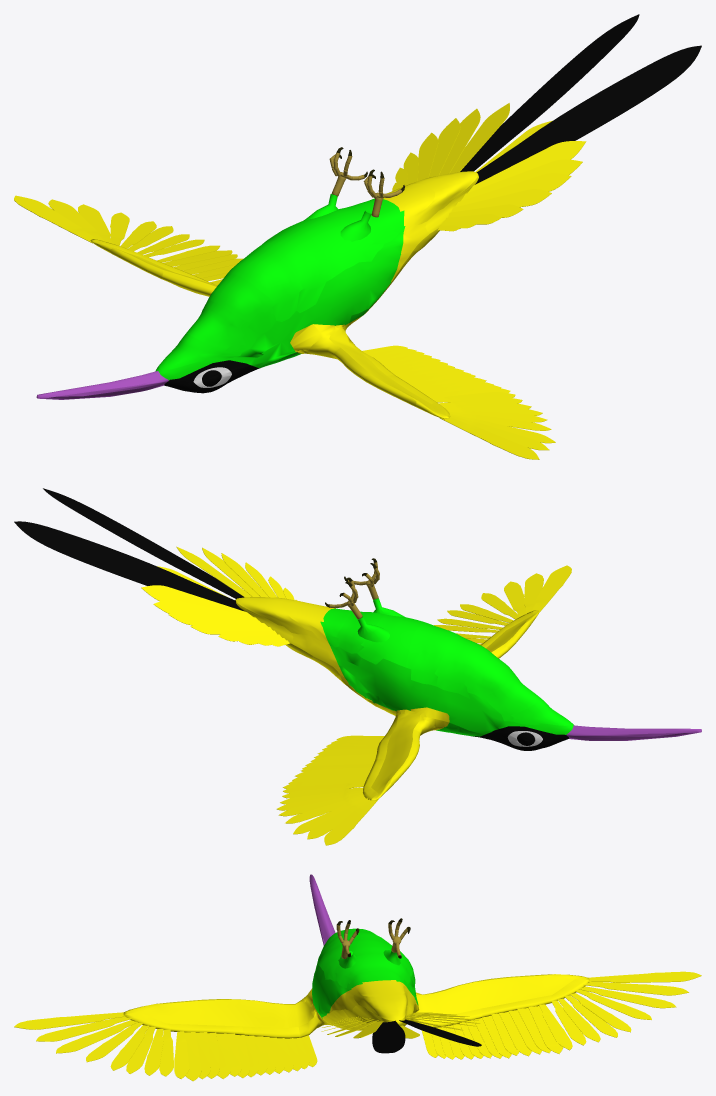
The model's file is colibri.obj.
The picture shows the model from 3 angles, top to bottom: view 1: azimuth 30°, elevation 25°; view 2: azimuth 150°, elevation 25°; view 3: azimuth 270°, elevation 25°; orthographic projection. The views are drawn at different scales.
Parts seen in each view (by area): view 1: Body01, Bodu, Pero02, Pero01, Kluv, Chub, RFeath01, LFeath01, RFeath02; view 2: Body01, Bodu, Pero01, Pero02, Kluv, Chub, LFeath01, RFeath01, LFeath02; view 3: Body01, Bodu, RFeath01, LFeath01, Pero02, RFeath02, LFeath02, LFeath03, RFeath03, Kluv, RFeath04, LFeath04 (+7 smaller).
Part boxes in pixels (x1=…): Body01: x1=90, y1=103, x2=586, y2=419; Bodu: x1=155, y1=198, x2=405, y2=380; Pero02: x1=475, y1=45, x2=701, y2=184; Pero01: x1=460, y1=14, x2=639, y2=171; Kluv: x1=36, y1=371, x2=168, y2=399; Chub: x1=164, y1=360, x2=259, y2=393; RFeath01: x1=440, y1=417, x2=539, y2=459; LFeath01: x1=14, y1=195, x2=97, y2=243; RFeath02: x1=449, y1=415, x2=549, y2=450; Body01: x1=141, y1=546, x2=538, y2=800; Bodu: x1=320, y1=608, x2=574, y2=736; Pero01: x1=14, y1=521, x2=244, y2=611; Pero02: x1=43, y1=488, x2=243, y2=598; Kluv: x1=566, y1=725, x2=701, y2=740; Chub: x1=471, y1=726, x2=569, y2=750; LFeath01: x1=324, y1=799, x2=378, y2=845; RFeath01: x1=531, y1=565, x2=571, y2=612; LFeath02: x1=307, y1=798, x2=368, y2=839; Body01: x1=123, y1=974, x2=589, y2=1081; Bodu: x1=312, y1=928, x2=418, y2=1018; RFeath01: x1=14, y1=1012, x2=126, y2=1029; LFeath01: x1=588, y1=971, x2=701, y2=982; Pero02: x1=372, y1=1020, x2=405, y2=1053; RFeath02: x1=36, y1=1017, x2=132, y2=1041; LFeath02: x1=583, y1=982, x2=688, y2=995; LFeath03: x1=579, y1=986, x2=676, y2=1008; RFeath03: x1=56, y1=1020, x2=137, y2=1053; Kluv: x1=309, y1=874, x2=335, y2=945; RFeath04: x1=86, y1=1022, x2=143, y2=1062; LFeath04: x1=575, y1=989, x2=651, y2=1019.
Size of the model in its own units: 187 by 47.65 by 182.
